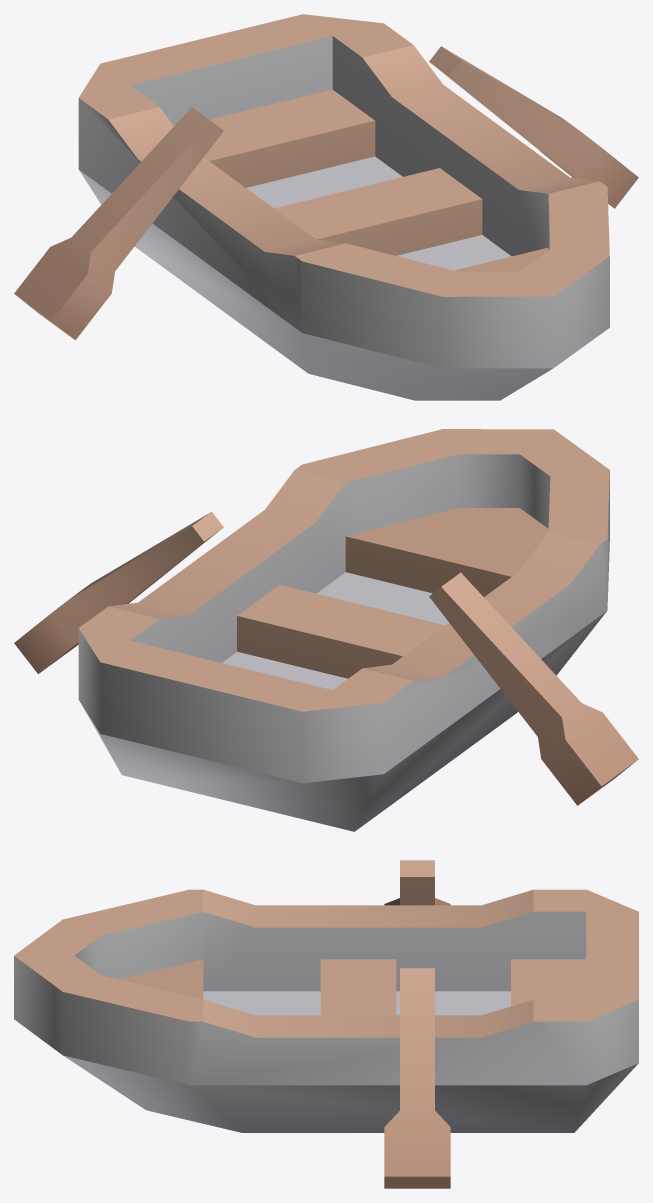
Rendered from boat-row-large.glb.
3 views of the same model, one above another, from view 1: azimuth 30°, elevation 25°; view 2: azimuth 150°, elevation 25°; view 3: azimuth 270°, elevation 25° (orthographic). The views are drawn at different scales.
Visible parts, largest first — view 1: boat-row-large, paddles; view 2: boat-row-large, paddles; view 3: boat-row-large, paddles.
Boxes of the visible parts, x1,y1,x2,y2 form: boat-row-large: (78,14,609,400); paddles: (14,46,638,339); boat-row-large: (78,429,609,831); paddles: (14,512,638,805); boat-row-large: (14,889,638,1132); paddles: (384,860,450,1188).
Size of the model in its own units: 2.75 by 0.8477 by 2.85.
